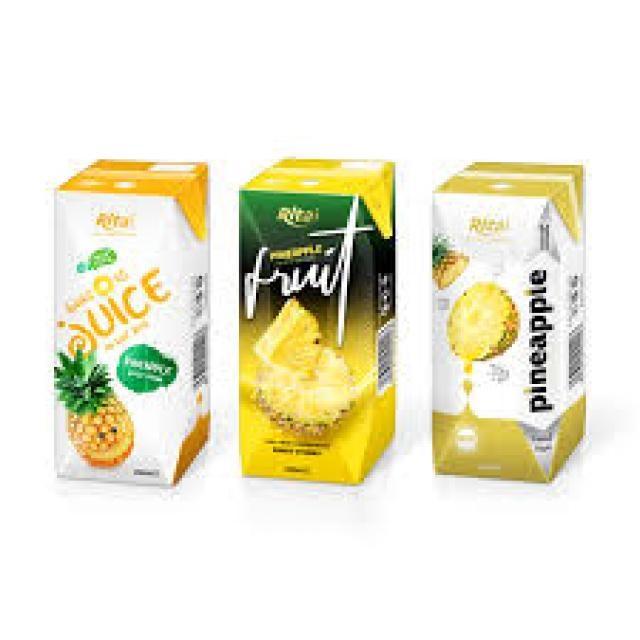non_white_jug: (215, 151, 416, 509), (24, 125, 218, 489), (400, 145, 596, 501)
